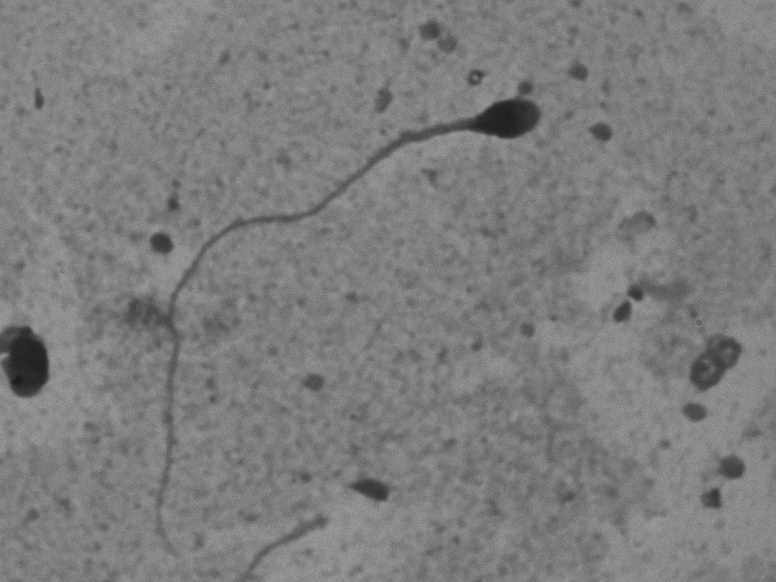Normal: (118, 64, 564, 525)
